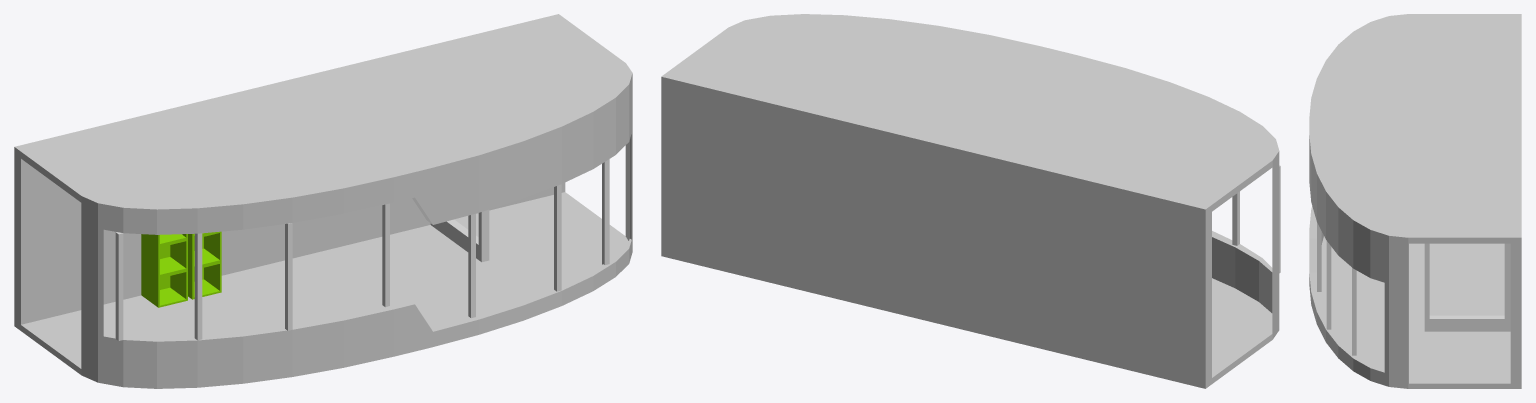
The model's file is Mariposas.dae.
The picture shows the model from 3 angles, left to right: view 1: azimuth 30°, elevation 25°; view 2: azimuth 150°, elevation 25°; view 3: azimuth 270°, elevation 25°; orthographic projection. The views are drawn at different scales.
Parts seen in each view (by area): view 1: Cool, Cube.009, Cube, Cube.010, Cube.011, Cube.012, Cube.015, Cube.016, Cube.014, Cube.013; view 2: Cool; view 3: Cool, Cube, Cube.015, Cube.016, Cube.014.
Boxes of the visible parts, x1,y1,x2,y2 form: Cool: (14,14,632,388); Cube.009: (141,231,221,307); Cube: (430,209,489,262); Cube.010: (115,232,123,340); Cube.011: (194,233,202,340); Cube.012: (285,223,292,330); Cube.015: (554,184,561,291); Cube.016: (602,159,609,264); Cube.014: (468,213,475,318); Cube.013: (382,203,389,306); Cool: (661,14,1279,388); Cool: (1309,14,1521,388); Cube: (1424,243,1510,331); Cube.015: (1326,241,1331,329); Cube.016: (1352,268,1356,355); Cube.014: (1317,222,1321,291).
Size of the model in its own units: 21.76 by 8.73 by 6.85.
